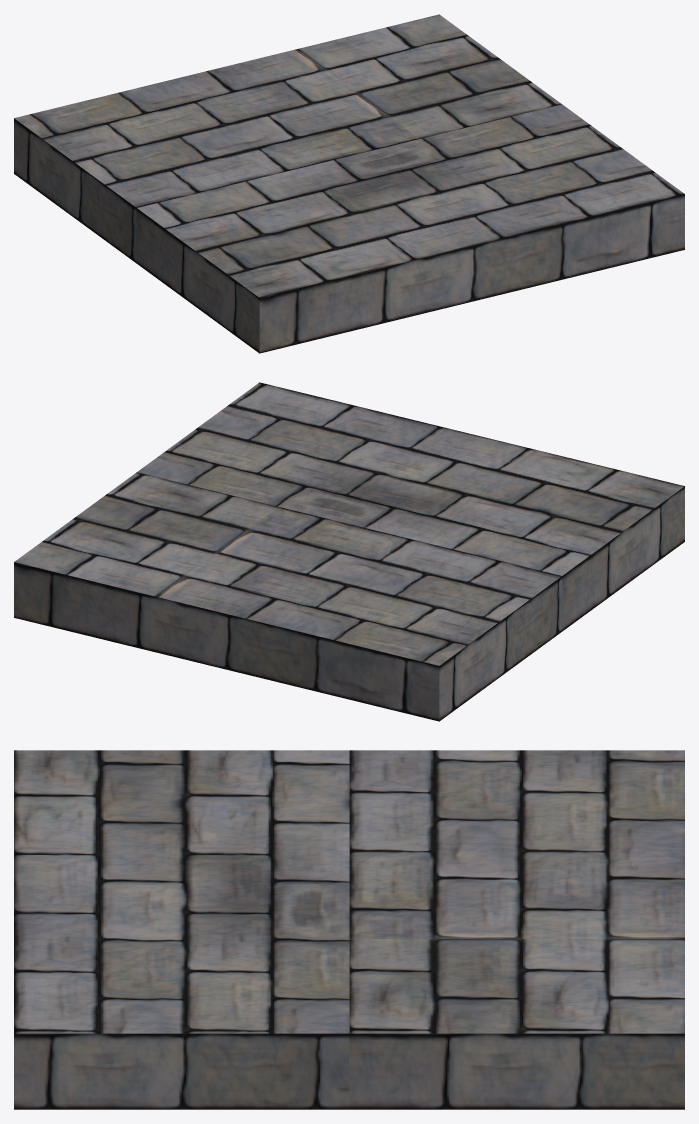
The model's file is floor_01.glb.
3 views of the same model, one above another, from view 1: azimuth 30°, elevation 25°; view 2: azimuth 150°, elevation 25°; view 3: azimuth 270°, elevation 25° (orthographic). The views are drawn at different scales.
Parts seen in each view (by area): view 1: floor_01; view 2: floor_01; view 3: floor_01.
Part boxes in pixels (x1=…): floor_01: x1=14, y1=14, x2=684, y2=353; floor_01: x1=14, y1=382, x2=684, y2=721; floor_01: x1=14, y1=750, x2=684, y2=1109.
Size of the model in its own units: 8 by 1 by 8.
1 material, 1 textured.
